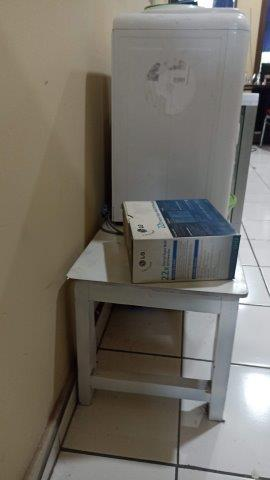kardus: (123, 199, 240, 282)
